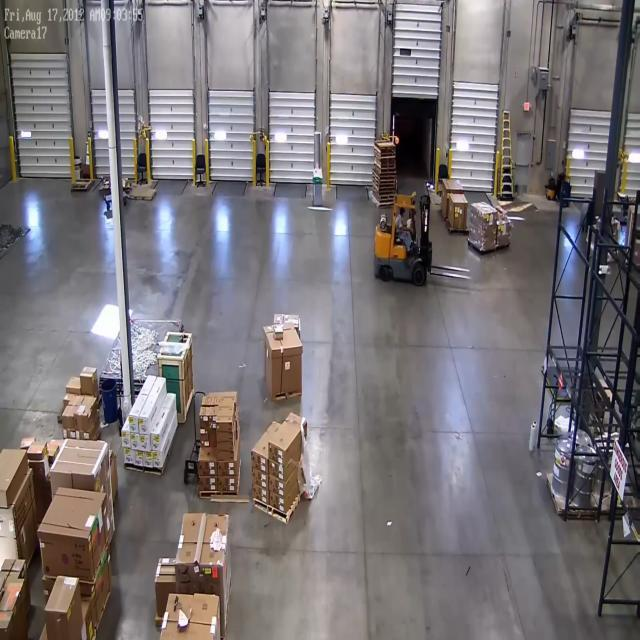driver: (394, 207, 414, 250)
forklift: (374, 191, 434, 289)
